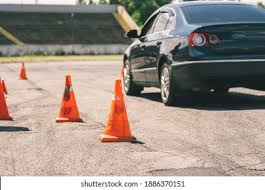car: (124, 2, 265, 105)
cone: (107, 80, 129, 140), (56, 75, 83, 123), (1, 79, 13, 122), (19, 63, 29, 81)
